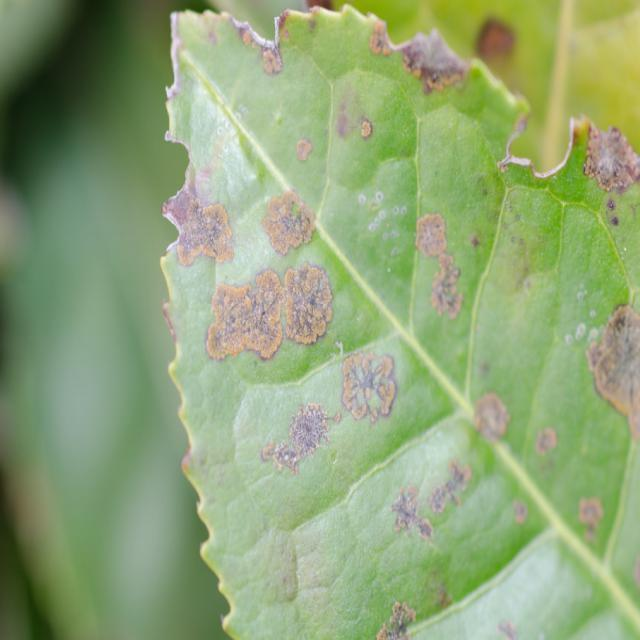Tea red rust: (168, 10, 633, 525)
